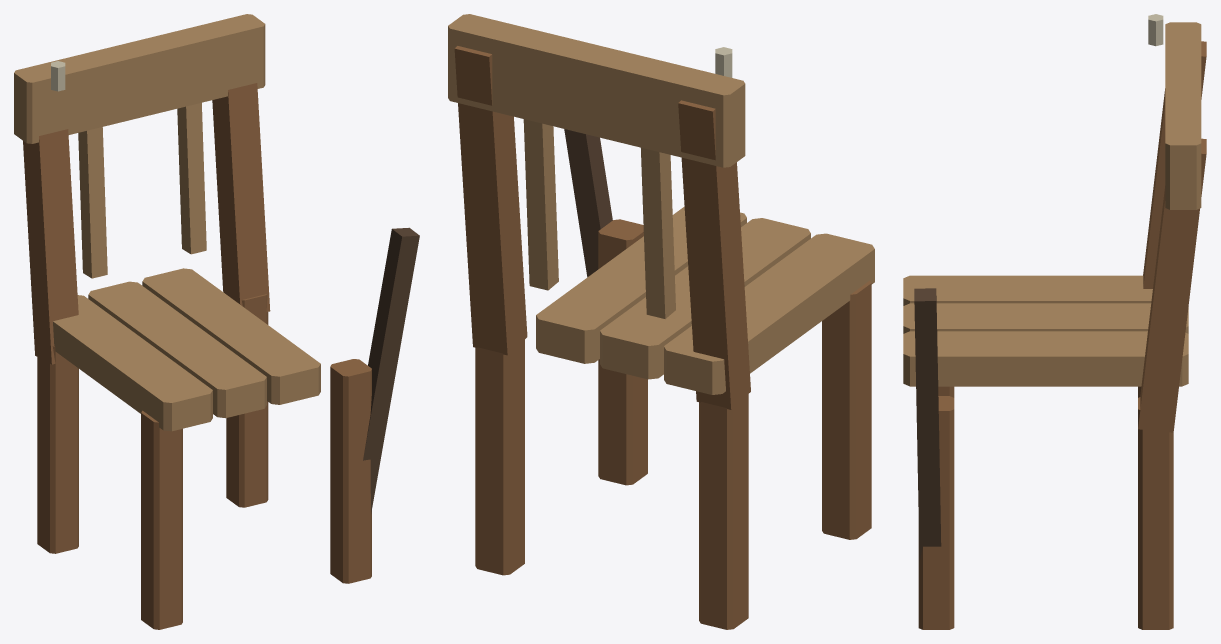
The model's file is chair_unfinished.glb.
3 renders of one model, left to right at view 1: azimuth 30°, elevation 25°; view 2: azimuth 150°, elevation 25°; view 3: azimuth 270°, elevation 25°, orthographic. The views are drawn at different scales.
Parts seen in each view (by area): view 1: geometry; view 2: geometry; view 3: geometry.
Part boxes in pixels (x1,y1,x2,y2): geometry: (14,14,419,629); geometry: (448,14,874,629); geometry: (903,14,1206,629).
Bounding box in the file's own units: 0.6047 × 1.02 × 0.5523.
